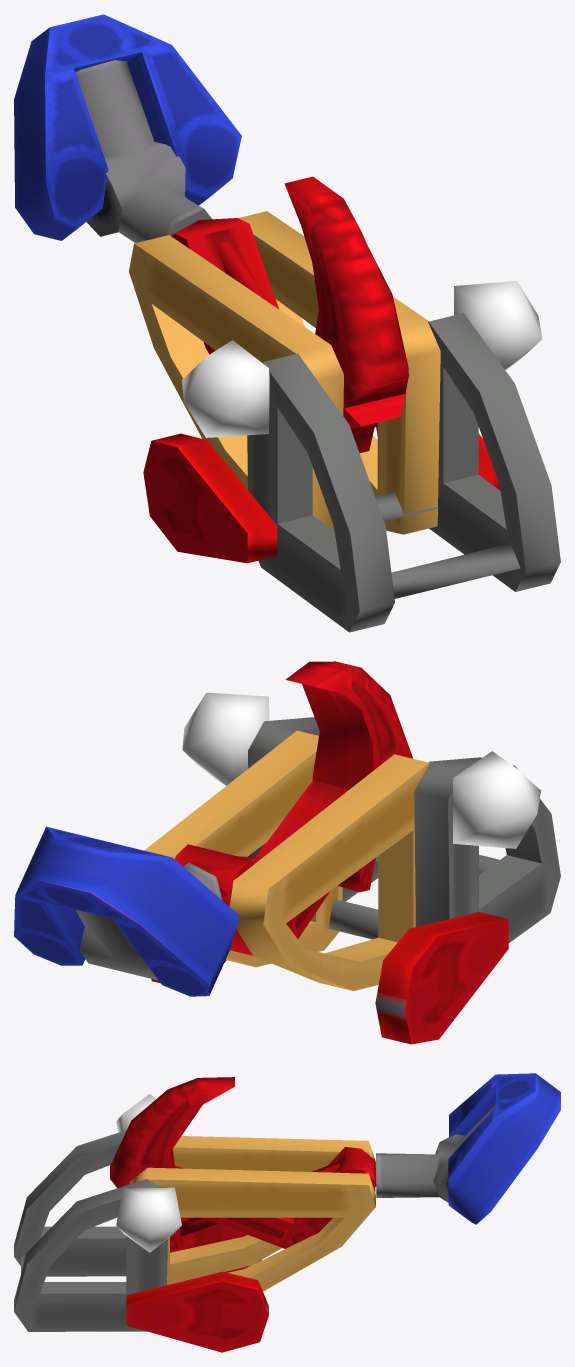
The model's file is sfsh.obj.
3 renders of one model, top to bottom at view 1: azimuth 30°, elevation 25°; view 2: azimuth 150°, elevation 25°; view 3: azimuth 270°, elevation 25°, orthographic. The views are drawn at different scales.
Size of the model in its own units: 1.2 by 1.07 by 2.34.
